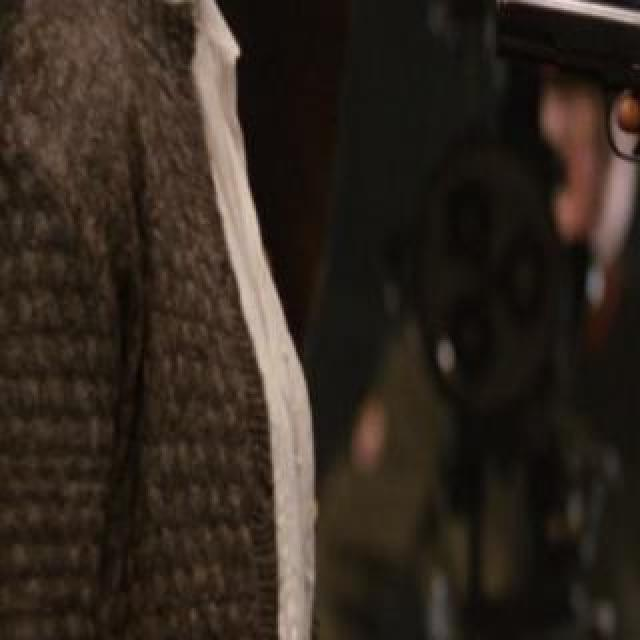Guns: (456, 0, 640, 316)
